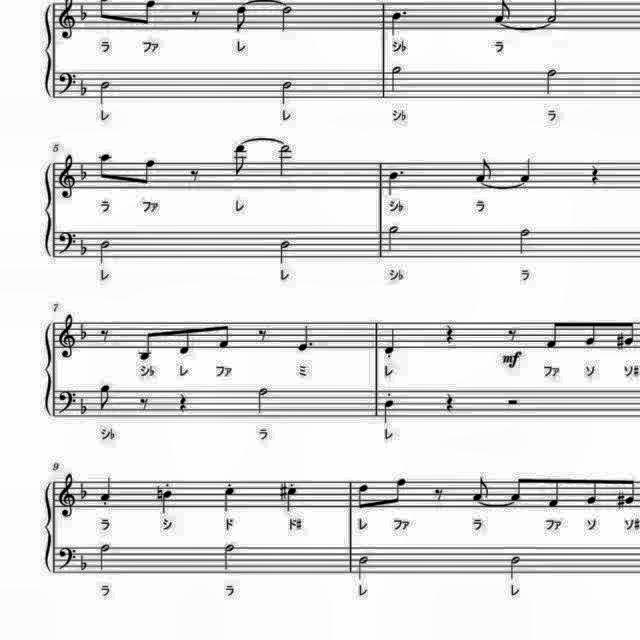Bass-clef: (56, 68, 80, 99), (56, 386, 80, 416), (56, 229, 80, 259), (56, 544, 80, 572)
Bemol: (76, 548, 92, 576), (76, 76, 90, 100), (75, 318, 88, 342), (76, 395, 90, 417), (78, 160, 90, 184), (77, 0, 89, 24), (78, 480, 90, 502), (78, 236, 90, 256)
Diez: (614, 488, 628, 512), (613, 331, 627, 354)
Eighth-note: (136, 327, 160, 365), (384, 474, 408, 510), (94, 148, 118, 184), (136, 154, 160, 188), (230, 140, 250, 180), (135, 0, 161, 30), (232, 1, 254, 35), (470, 474, 494, 504), (542, 316, 562, 352), (546, 476, 566, 512), (178, 324, 198, 360), (214, 319, 234, 353), (472, 156, 496, 184), (584, 476, 604, 508), (490, 0, 514, 26), (96, 380, 115, 412), (508, 473, 528, 503), (582, 319, 602, 349), (355, 480, 373, 512), (622, 476, 640, 508), (622, 321, 640, 352)
Eighth-rest: (186, 5, 204, 27), (429, 484, 446, 506), (185, 166, 203, 186), (98, 324, 114, 346), (253, 324, 270, 344), (136, 394, 152, 414), (504, 324, 520, 344)
Half-note: (274, 142, 294, 180), (386, 62, 406, 98), (384, 223, 404, 257), (540, 66, 560, 100), (514, 223, 534, 257), (276, 2, 296, 34), (277, 78, 297, 110), (252, 386, 272, 418), (218, 542, 238, 574), (276, 239, 296, 269), (504, 552, 524, 582), (95, 541, 112, 575), (97, 76, 115, 108), (354, 552, 372, 584), (98, 236, 114, 268), (541, 0, 562, 24)
Half-rest: (502, 394, 522, 408)
Quarter-dot: (384, 6, 408, 38), (292, 322, 314, 354), (383, 170, 405, 202)
Quarter-note: (281, 481, 301, 514), (218, 482, 238, 514), (158, 487, 178, 517), (382, 326, 400, 359), (98, 476, 116, 506), (518, 156, 536, 184), (380, 398, 398, 426)
Quarter-rest: (439, 389, 456, 416), (442, 320, 458, 348), (584, 163, 600, 190), (176, 392, 192, 416)
Treble-clef: (57, 154, 79, 202), (58, 472, 78, 520), (58, 315, 78, 363)
